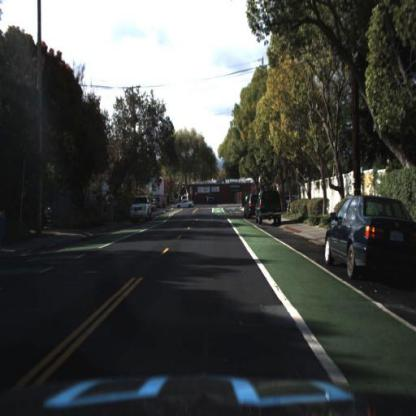car: (325, 189, 416, 279), (257, 192, 284, 228), (127, 192, 154, 223), (34, 198, 54, 231), (241, 189, 259, 222), (176, 197, 195, 213)
